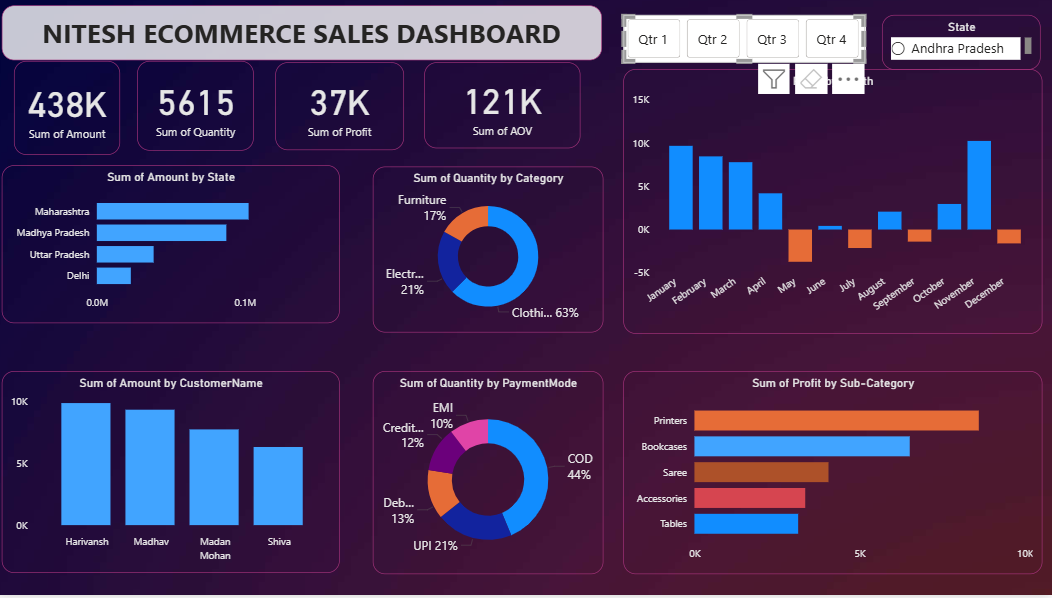

What the dashboard file says about the page in this screenshot:
{"tool":"powerbi","page":{"name":"Page 1","canvas":[1280,720],"ordinal":0},"visuals":[{"type":"textbox","box":[8.9,6.7,726.7,66.7],"z":0},{"type":"columnChart","title":"Profit by Month","fields":{"Y":["Sum(Details.Profit)"],"Category":["Orders.Order Date.Variation.Date Hierarchy.Month"]},"box":[760.5,83.3,507,320.5],"z":1},{"type":"barChart","fields":{"Category":["Details.Sub-Category"],"Y":["Sum(Details.Profit)"]},"box":[760.5,449.1,507,246.3],"z":2},{"type":"donutChart","fields":{"Category":["Details.Category"],"Y":["Sum(Details.Quantity)"]},"box":[458.1,201,278.9,201],"z":3},{"type":"donutChart","fields":{"Y":["Sum(Details.Quantity)"],"Category":["Details.PaymentMode"]},"box":[458.1,449.1,278.9,246.3],"z":4},{"type":"card","fields":{"Values":["Sum(Details.Amount)"]},"box":[23.5,74.2,128.6,114.1],"z":5},{"type":"card","fields":{"Values":["Sum(Details.Quantity)"]},"box":[172,74.2,141.2,108.6],"z":6},{"type":"card","fields":{"Values":["Sum(Details.Profit)"]},"box":[340,75.6,155.6,106.7],"z":7},{"type":"card","fields":{"Values":["Sum(Details.AOV)"]},"box":[520,75.6,188.9,104.4],"z":8},{"type":"barChart","fields":{"Category":["Orders.State"],"Y":["Sum(Details.Amount)"]},"box":[8.9,200,408.9,191.1],"z":9},{"type":"columnChart","fields":{"Category":["Orders.CustomerName"],"Y":["Sum(Details.Amount)"]},"box":[8.9,448.9,408.9,244.4],"z":10},{"type":"advancedSlicerVisual","fields":{"Values":["Orders.Order Date.Variation.Date Hierarchy.Quarter"]},"box":[760.1,17.7,293.9,57.4],"z":12},{"type":"listSlicer","fields":{"Values":["Orders.State"]},"box":[1073.8,17.7,192.2,66.3],"z":13}]}

Visuals, with their boxes in screenshot pixels (x1, y1, x2, y2), scaled from the page's 1280x720 canvas onto the 1052x598 screenshot:
textbox: locate(7, 6, 605, 61)
"Profit by Month" columnChart: locate(625, 69, 1042, 335)
barChart - Details.Sub-Category x Sum(Details.Profit): locate(625, 373, 1042, 578)
donutChart - Details.Category x Sum(Details.Quantity): locate(377, 167, 606, 334)
donutChart - Sum(Details.Quantity) x Details.PaymentMode: locate(377, 373, 606, 578)
card - Sum(Details.Amount): locate(19, 62, 125, 156)
card - Sum(Details.Quantity): locate(141, 62, 257, 152)
card - Sum(Details.Profit): locate(279, 63, 407, 151)
card - Sum(Details.AOV): locate(427, 63, 583, 150)
barChart - Orders.State x Sum(Details.Amount): locate(7, 166, 343, 325)
columnChart - Orders.CustomerName x Sum(Details.Amount): locate(7, 373, 343, 576)
advancedSlicerVisual - Orders.Order Date.Variation.Date Hierarchy.Quarter: locate(625, 15, 866, 62)
listSlicer - Orders.State: locate(883, 15, 1040, 70)
